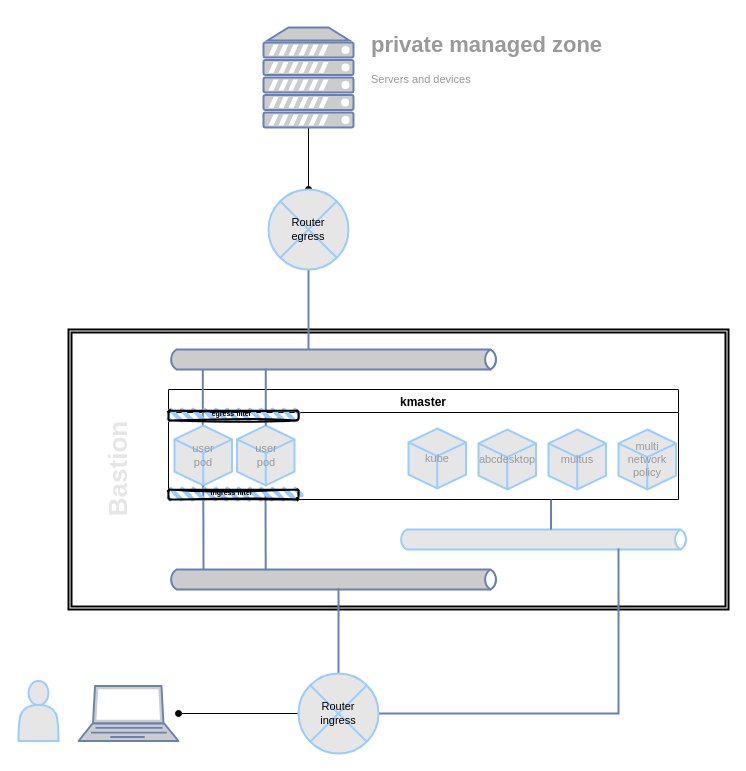
Image size: 746x771. Some labels were removed from this diagram. The shapes that lost their labels are listed below. From the top down, each one's centre as x and y in pixels, then its label:
At point 333,359: "Pod private network 192.168.2.0/24".
At point 543,539: "admin".
At point 333,579: "Pod public network 10.0.1.0/24".
